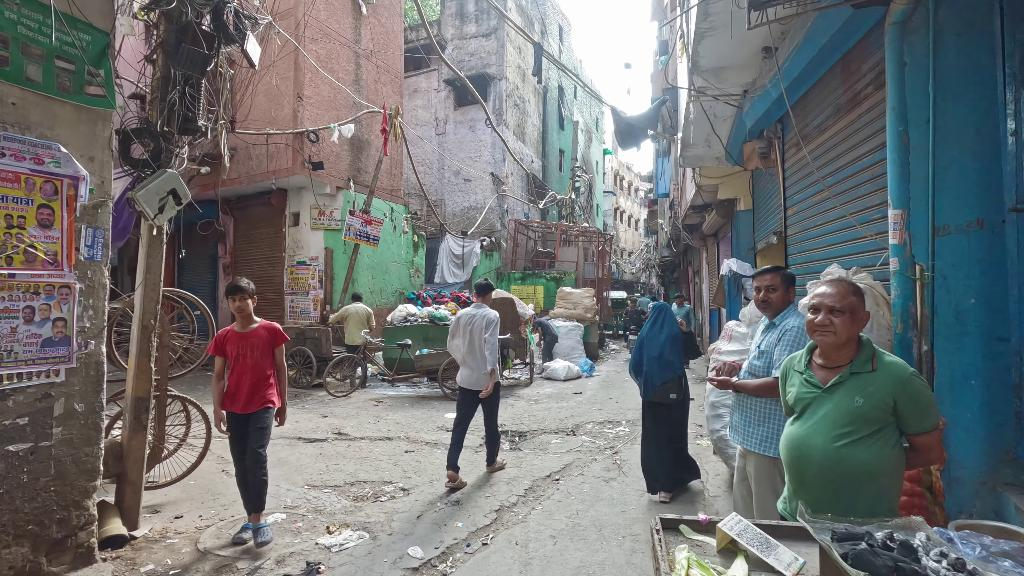garbage: (315, 526, 372, 552), (577, 356, 596, 376), (408, 546, 428, 561)
